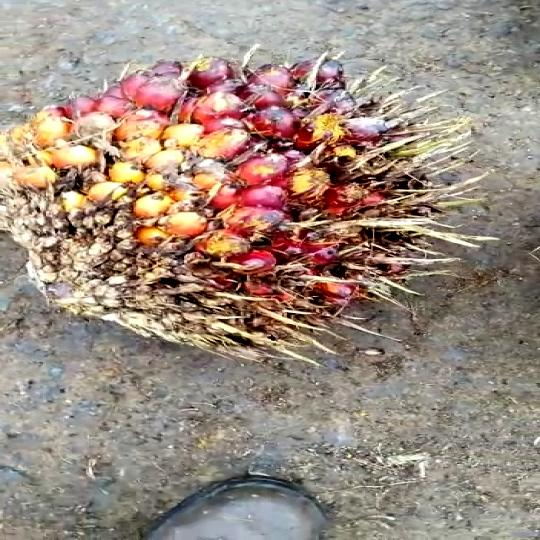masak: (0, 56, 442, 355)
